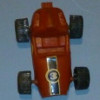rojo: (15, 4, 89, 97)
